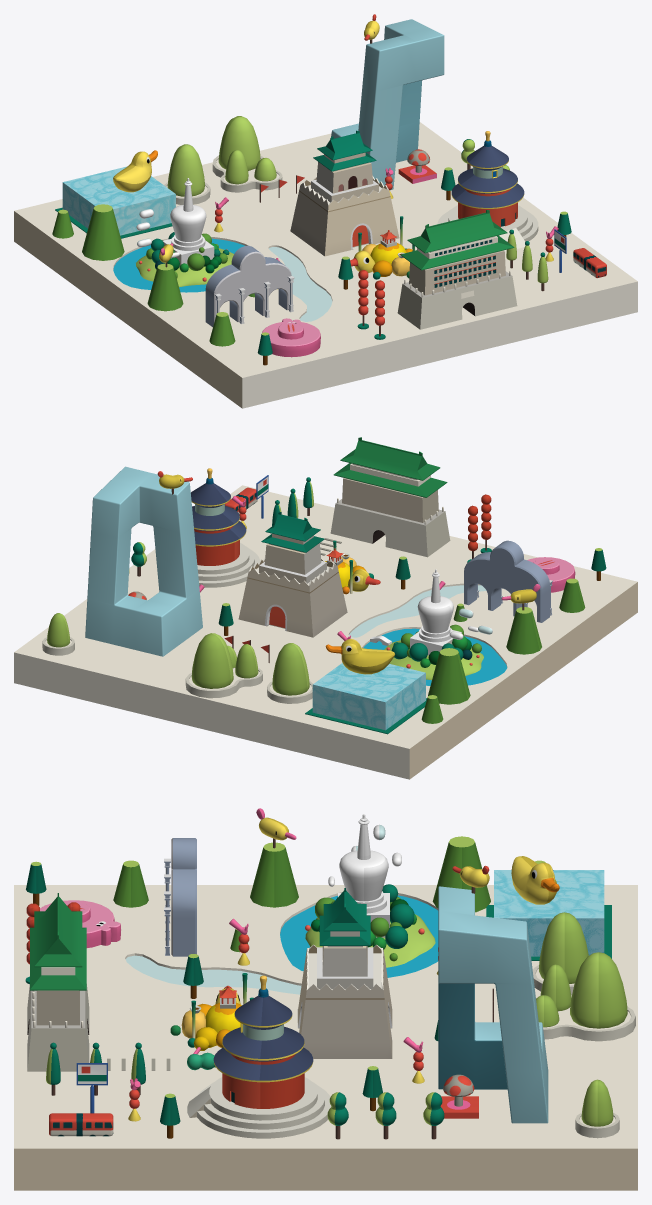
Rendered from city.glb.
3 views of the same model, one above another, from view 1: azimuth 30°, elevation 25°; view 2: azimuth 150°, elevation 25°; view 3: azimuth 270°, elevation 25° (orthographic). The views are drawn at different scales.
Parts seen in each view (by area): view 1: beijing, zhong, tiantan, tower; view 2: beijing, zhong, tiantan, tower; view 3: beijing, tiantan, zhong, tower.
Boxes of the visible parts, <box> form: beijing: <box>14,14,637,408</box>; zhong: <box>290,130,399,256</box>; tiantan: <box>437,131,538,251</box>; tower: <box>136,178,260,287</box>; beijing: <box>14,437,637,779</box>; zhong: <box>238,512,347,637</box>; tiantan: <box>191,468,259,587</box>; tower: <box>370,569,492,680</box>; beijing: <box>14,808,637,1190</box>; tiantan: <box>187,975,331,1138</box>; zhong: <box>298,888,392,1058</box>; tower: <box>305,814,435,967</box>.
Size of the model in its own units: 586 by 274 by 586.
1 material, 1 textured.
